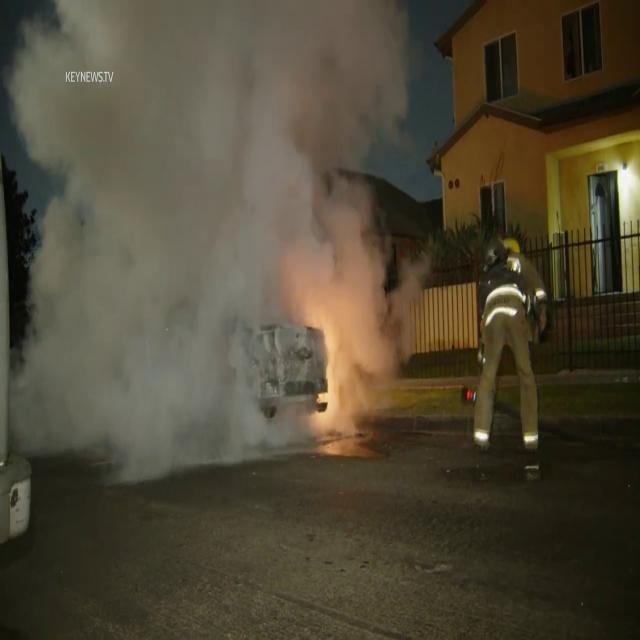Fire: (292, 271, 360, 415)
Smoke: (49, 0, 332, 488)
